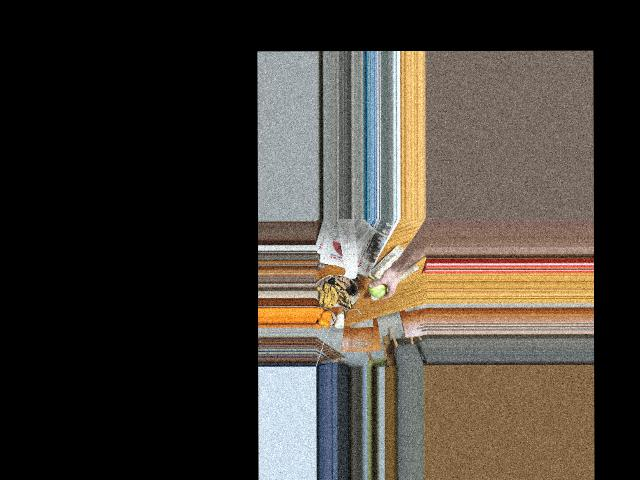apple: (369, 273, 390, 297)
